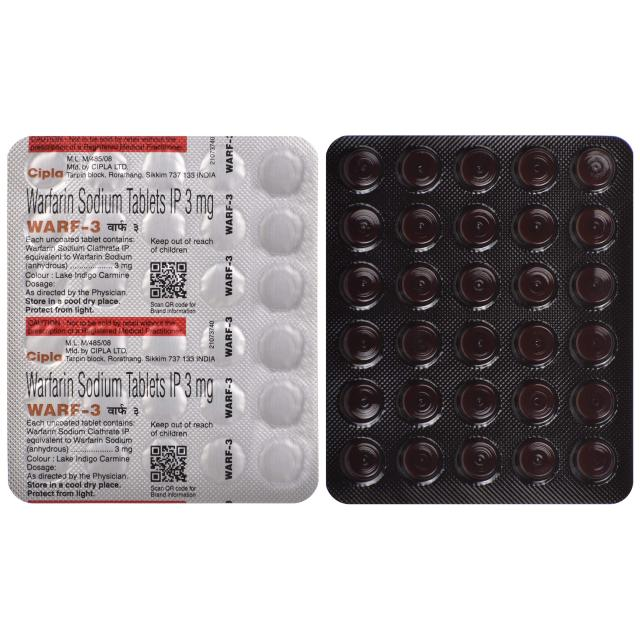Medicine-name: (23, 366, 216, 408)
